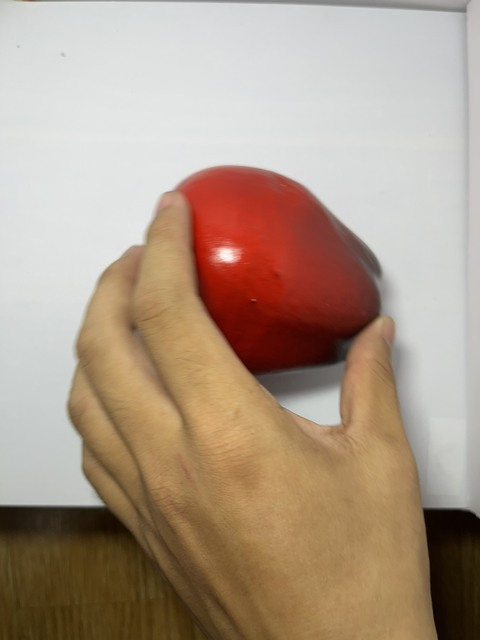Tao: (143, 164, 395, 385)
